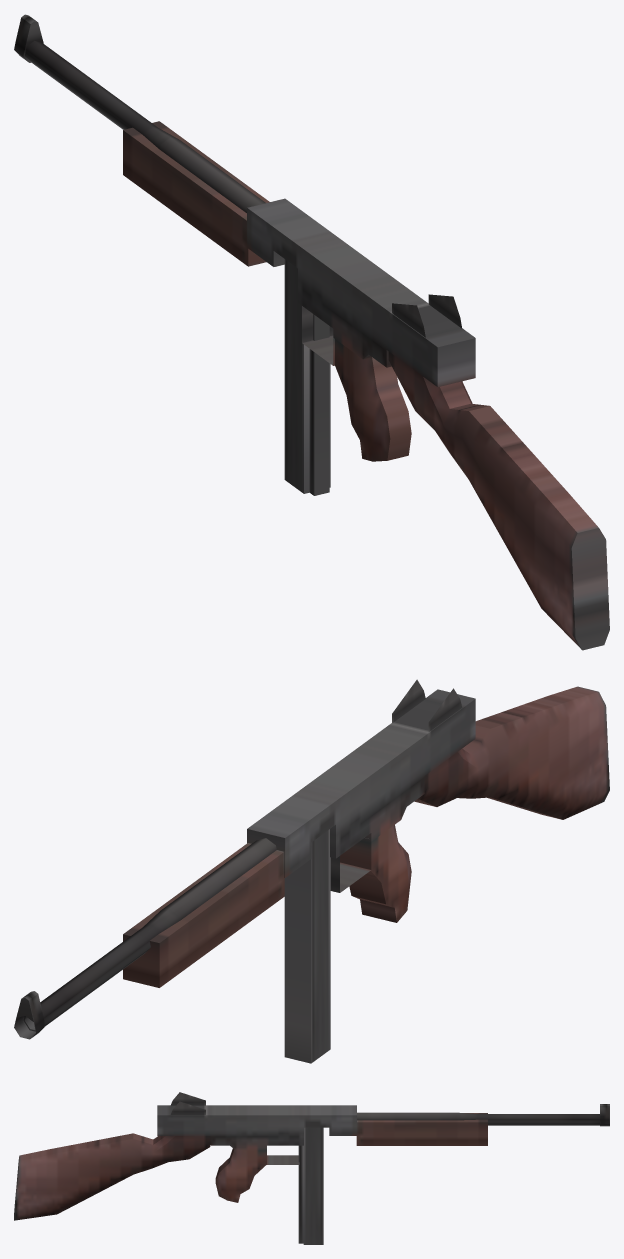
The model's file is auto-ordnance_m1_thompson_low_poly_ps1.glb.
The picture shows the model from 3 angles, top to bottom: view 1: azimuth 30°, elevation 25°; view 2: azimuth 150°, elevation 25°; view 3: azimuth 270°, elevation 25°; orthographic projection. The views are drawn at different scales.
Parts seen in each view (by area): view 1: Object_2; view 2: Object_2; view 3: Object_2.
Part boxes in pixels (box(x1,y1,x2,y2)): Object_2: box(14, 14, 609, 650); Object_2: box(14, 679, 609, 1063); Object_2: box(14, 1092, 609, 1244).
Size of the model in its own units: 0.1678 by 1.16 by 4.34.
Materials: 1 (1 with a texture image).
